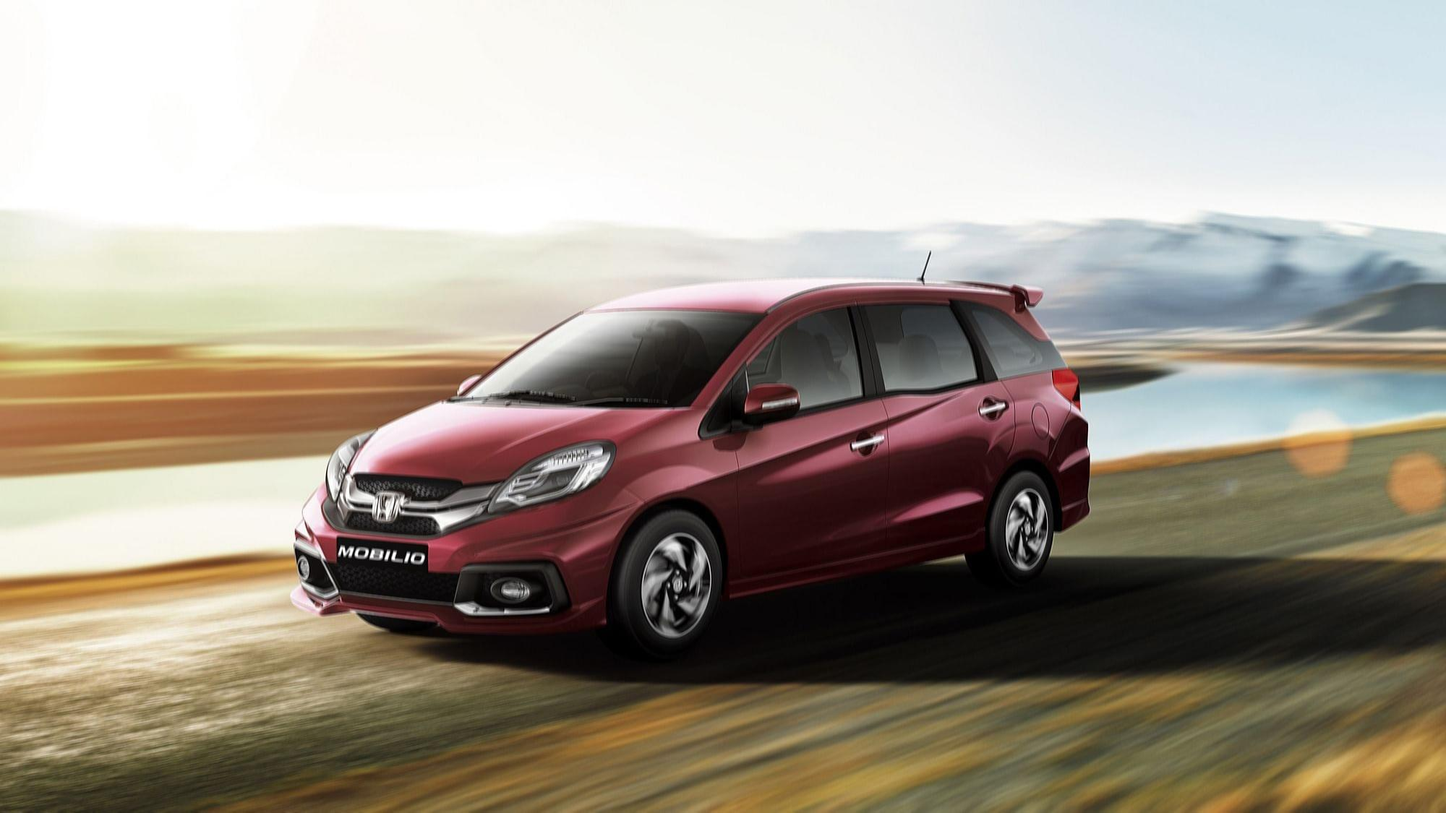Car hood: (345, 399, 680, 487)
Fender - -F-L-: (604, 402, 741, 595)
Fender - -R-L-: (1003, 363, 1076, 487)
Front bumper: (286, 496, 630, 644)
Headlight - -L-: (479, 434, 623, 521)
Headlight - -R-: (323, 422, 383, 508)
Passenger-s door - -F-L-: (741, 294, 890, 583)
Passenger-s door - -R-L-: (888, 293, 1022, 554)
Rear bumper: (1048, 418, 1101, 535)
Rear light - -L-: (1044, 363, 1093, 418)
Side bumper - -L-: (718, 520, 998, 605)
Side mirror - -L-: (733, 381, 808, 442)
Side mirror - -R-: (450, 368, 491, 405)
